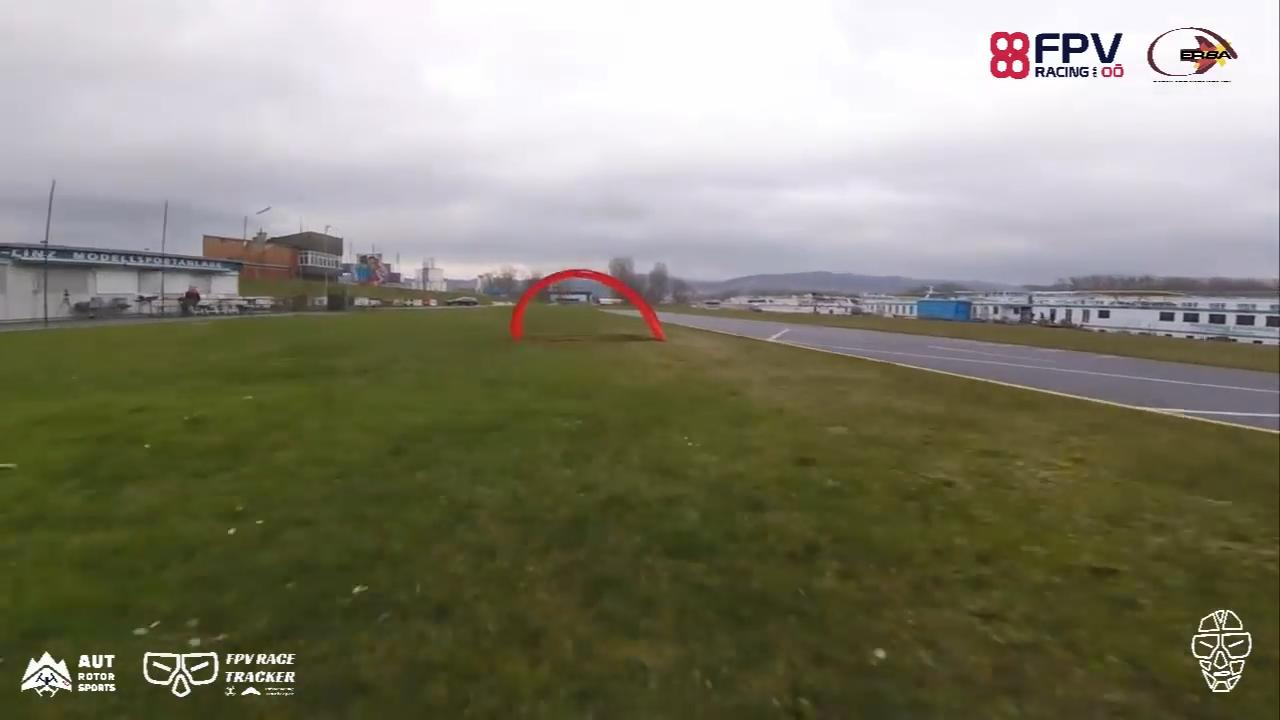gate: (502, 265, 670, 342)
